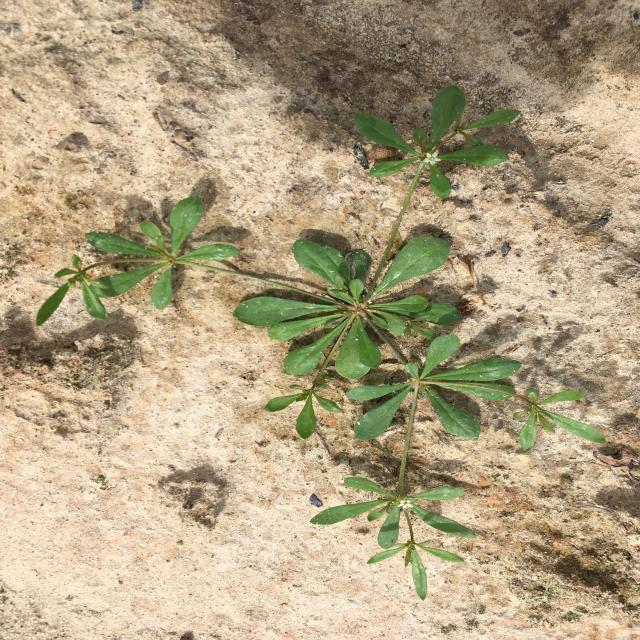Carpetweed: (36, 84, 606, 601)
